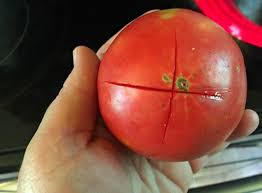tomato: (96, 9, 248, 162)
